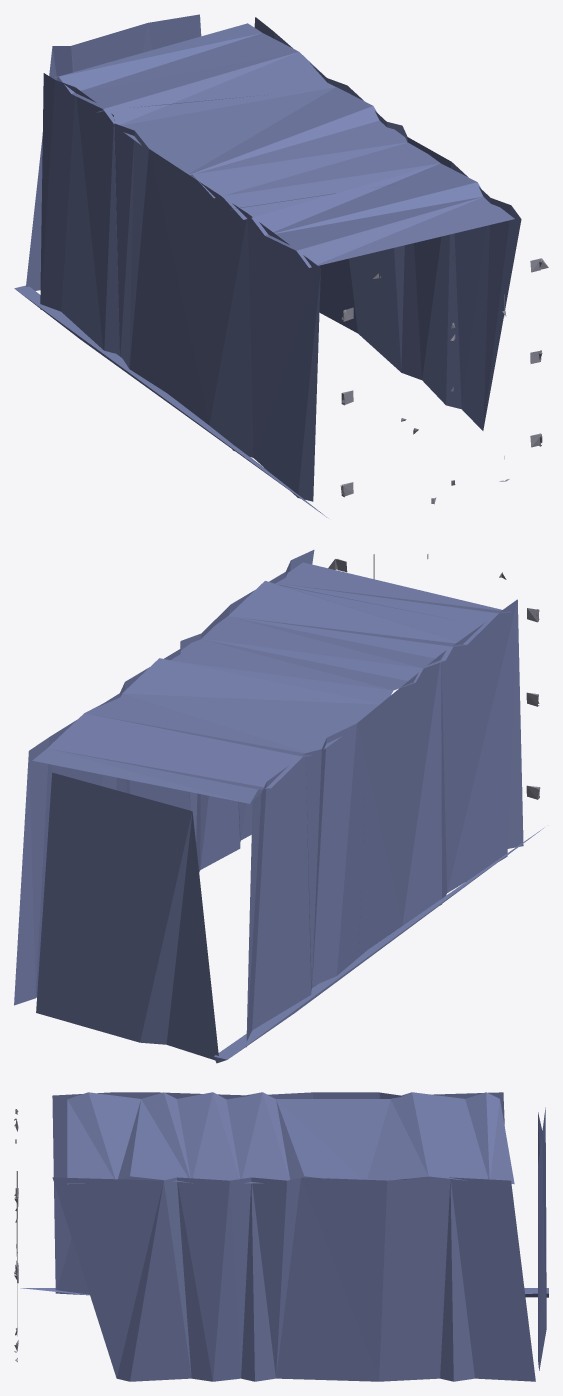
File: crate_shipping_container.glb
The picture shows the model from 3 angles, top to bottom: view 1: azimuth 30°, elevation 25°; view 2: azimuth 150°, elevation 25°; view 3: azimuth 270°, elevation 25°; orthographic projection. The views are drawn at different scales.
Visible parts, largest first — view 1: sweethome3d_opening_on_hinge_2_door_right, sweethome3d_hinge_2_right; view 2: sweethome3d_opening_on_hinge_2_door_right, sweethome3d_hinge_2_right; view 3: sweethome3d_opening_on_hinge_2_door_right.
Boxes of the visible parts, bbox=[...] form: sweethome3d_opening_on_hinge_2_door_right: bbox=[14, 14, 521, 518]; sweethome3d_hinge_2_right: bbox=[340, 255, 548, 504]; sweethome3d_opening_on_hinge_2_door_right: bbox=[14, 550, 544, 1063]; sweethome3d_hinge_2_right: bbox=[328, 554, 540, 799]; sweethome3d_opening_on_hinge_2_door_right: bbox=[20, 1092, 548, 1381].
Size of the model in its own units: 2.39 by 2.58 by 6.06.
